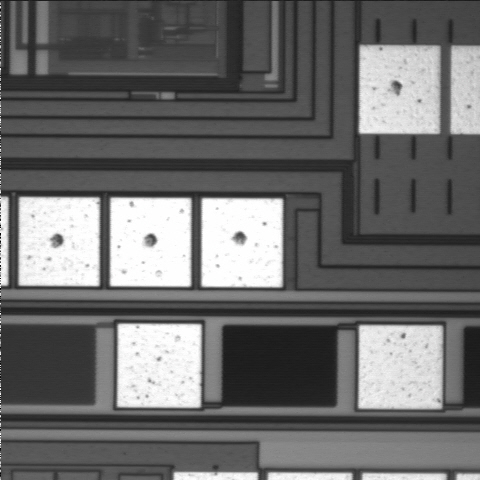pad: (201, 198, 283, 287), (19, 197, 100, 286), (110, 198, 191, 287), (359, 46, 440, 134), (117, 324, 201, 408), (359, 325, 442, 409)
